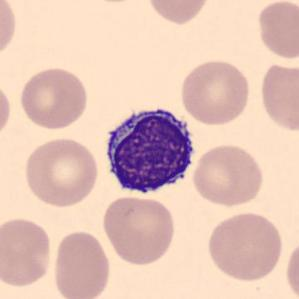Lymphocyte: (98, 100, 201, 200)
RBC: (204, 209, 286, 283), (21, 135, 102, 208), (100, 194, 178, 267), (177, 57, 252, 127), (190, 142, 266, 209), (16, 64, 90, 131), (50, 228, 113, 299), (0, 214, 55, 290), (257, 59, 299, 134), (254, 0, 299, 62), (145, 0, 213, 26), (0, 0, 18, 62), (283, 236, 299, 299), (0, 77, 13, 142)
